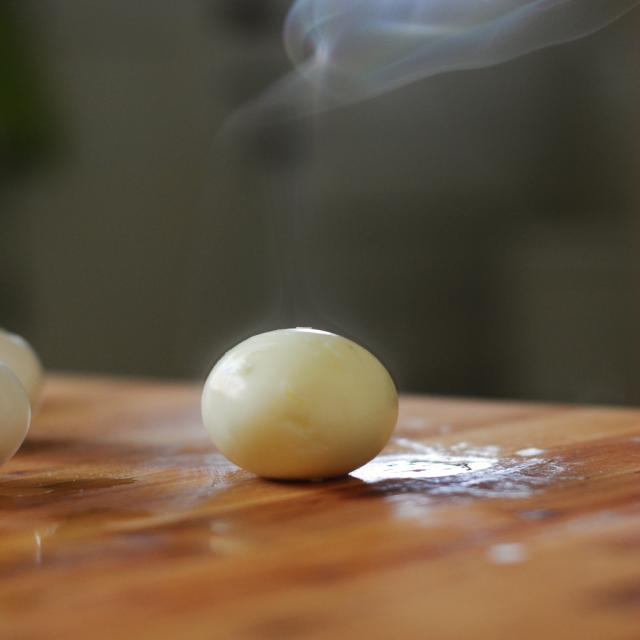Egg: (201, 326, 399, 481)
